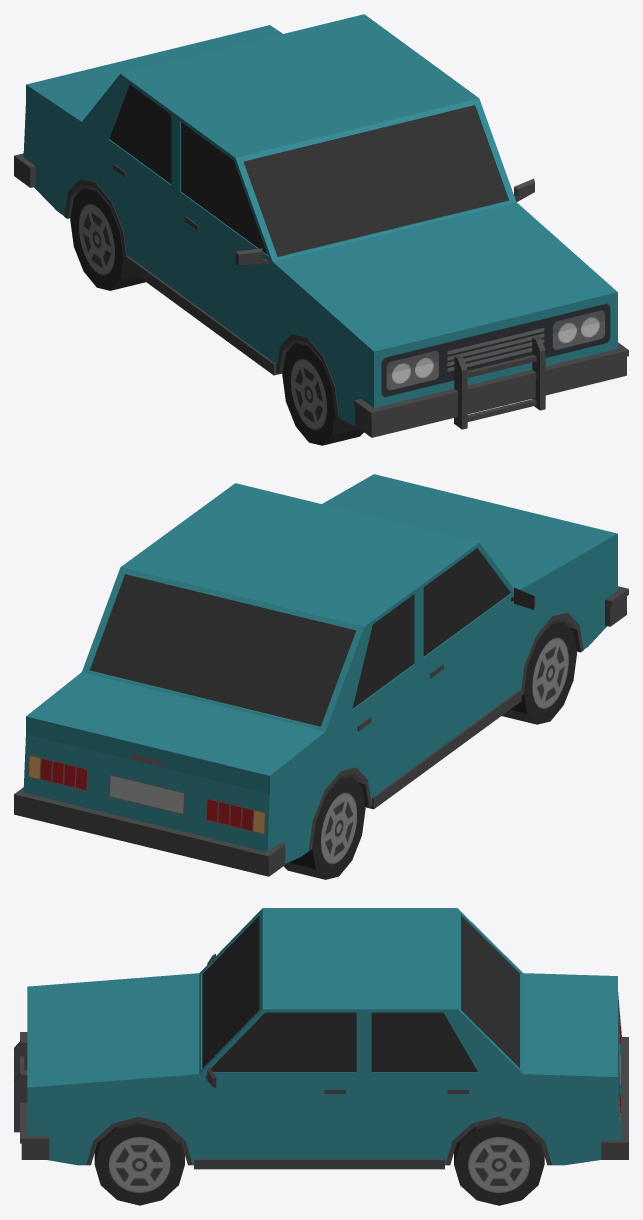
File: car.glb
3 views of the same model, one above another, from view 1: azimuth 30°, elevation 25°; view 2: azimuth 150°, elevation 25°; view 3: azimuth 270°, elevation 25° (orthographic). The views are drawn at different scales.
Parts seen in each view (by area): view 1: Body, FR, RR; view 2: Body, RR, FR; view 3: Body, RL, FL.
Part boxes in pixels (<box>): Body: <box>14,14,628,437</box>; FR: <box>282,341,363,445</box>; RR: <box>70,186,145,290</box>; Body: <box>14,474,628,876</box>; RR: <box>283,775,365,879</box>; FR: <box>502,620,576,724</box>; Body: <box>14,908,628,1169</box>; RL: <box>454,1121,544,1205</box>; FL: <box>94,1121,184,1205</box>.
Size of the model in its own units: 3.06 by 2.27 by 6.43.
Materials: 1 (1 with a texture image).
